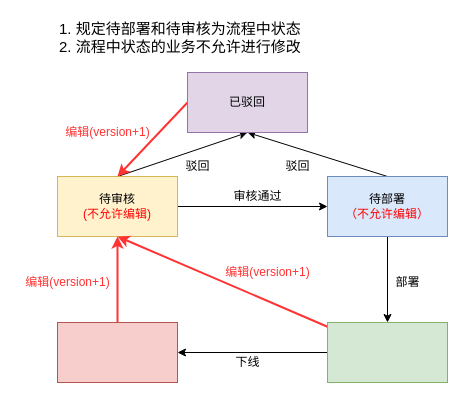
Image size: 465x400. Some labels were removed from this diagram. The shapes that lost their labels are listed below. From the top down, each one's centre as x and y in pixels, then its label:
At point (117, 352): "已下线".
At point (387, 352): "已上线".
